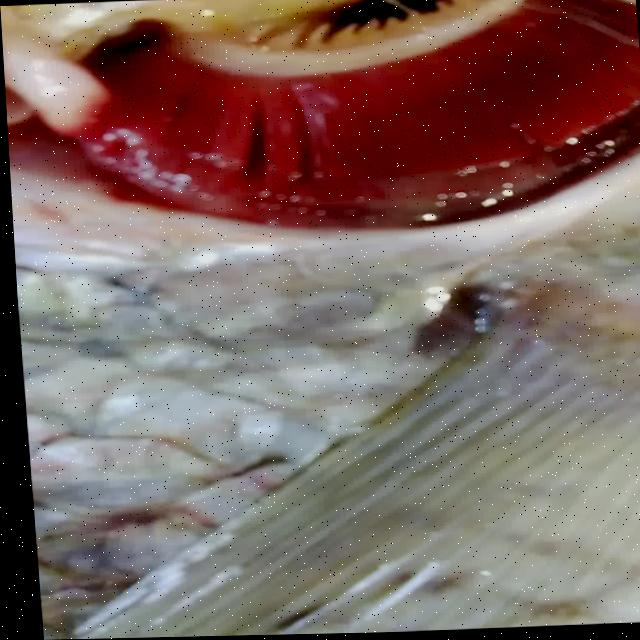Fresh: (15, 0, 640, 265)
